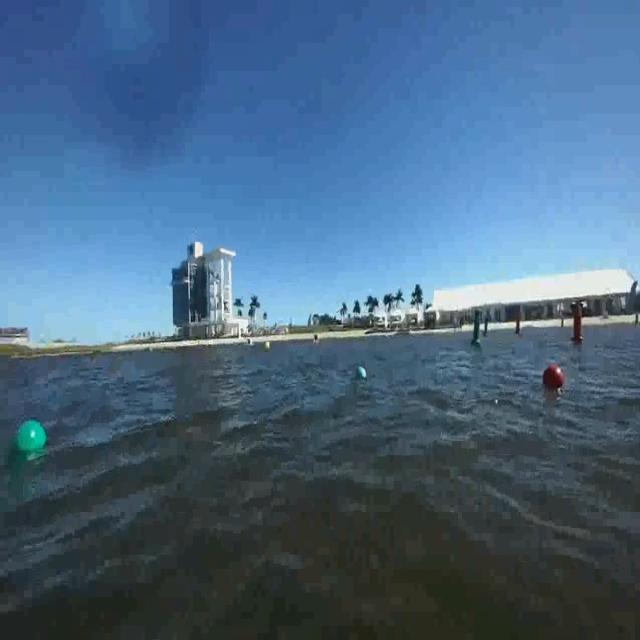green-buoy: (5, 416, 54, 488), (355, 366, 370, 384)
green-column-buoy: (470, 308, 483, 348), (484, 315, 489, 337)
red-buoy: (545, 365, 564, 387)
red-column-buoy: (570, 303, 584, 344), (513, 315, 521, 339)
yellow-buoy: (266, 341, 272, 354)
